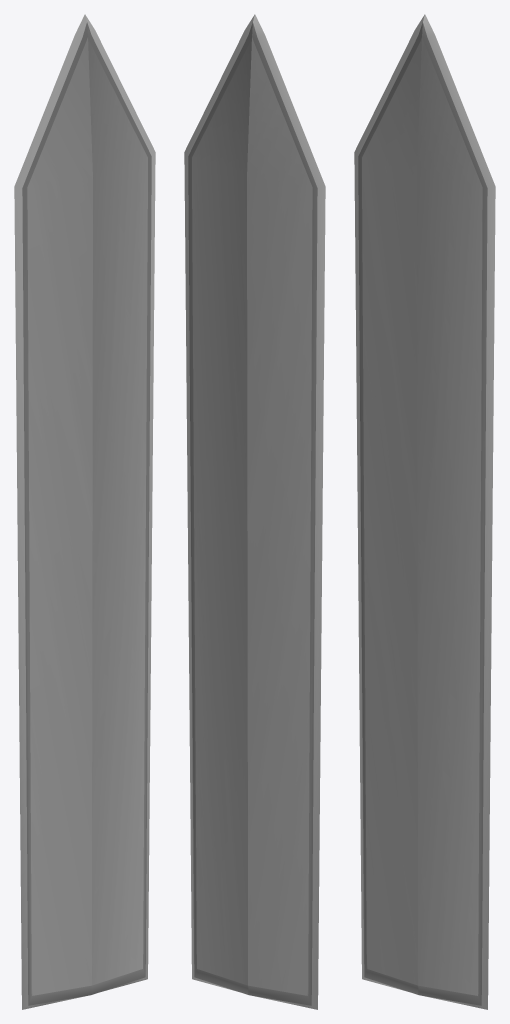
The model's file is stone_blade (8).glb.
The picture shows the model from 3 angles, left to right: view 1: azimuth 30°, elevation 25°; view 2: azimuth 150°, elevation 25°; view 3: azimuth 330°, elevation 25°; orthographic projection.
Visible parts, largest first — view 1: stone_blade_unscratched.028; view 2: stone_blade_unscratched.028; view 3: stone_blade_unscratched.028.
Part boxes in pixels (x1=…): stone_blade_unscratched.028: x1=14, y1=14, x2=155, y2=1009; stone_blade_unscratched.028: x1=184, y1=14, x2=325, y2=1009; stone_blade_unscratched.028: x1=354, y1=14, x2=495, y2=1009.
Size of the model in its own units: 1.71 by 11.4 by 0.3369.
Materials: 1 (1 with a texture image).
